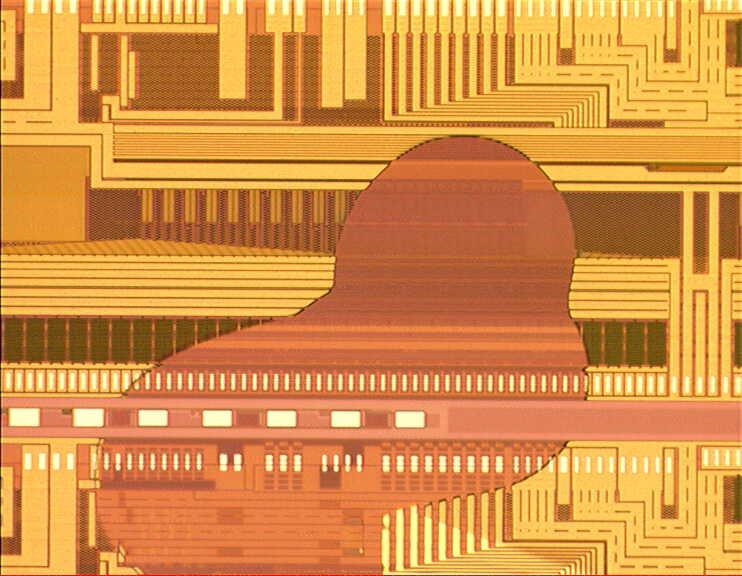BLOCK ETCH: (94, 130, 594, 576)
